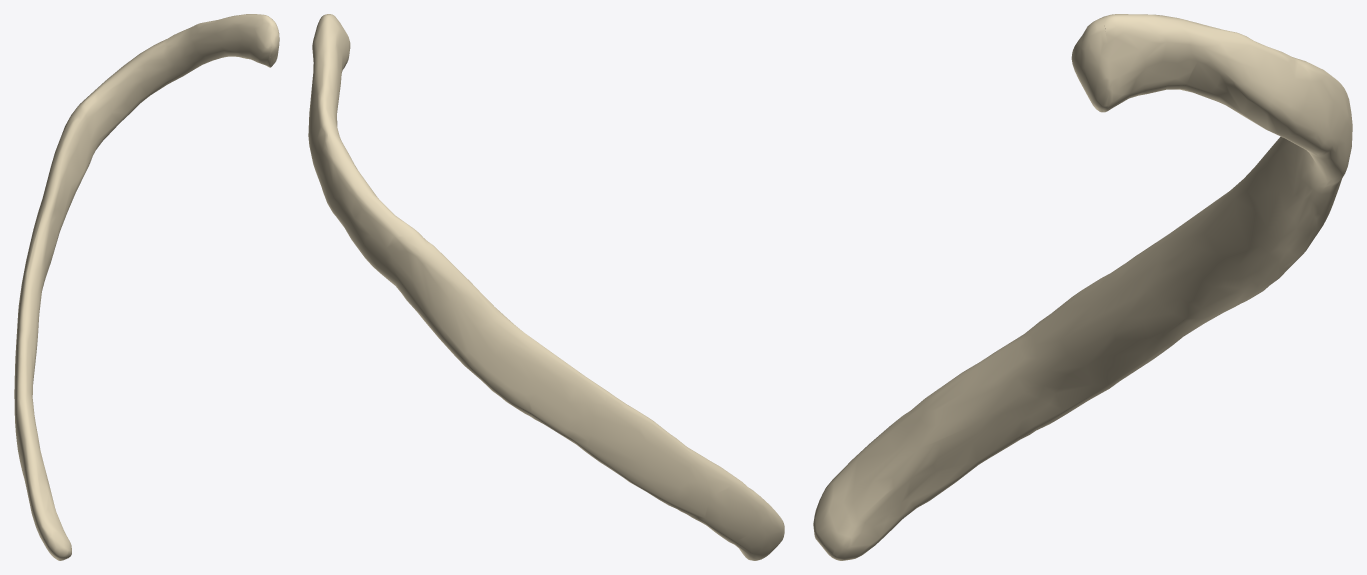
File: esqueleto-eleventh-rib-r.glb
3 renders of one model, left to right at view 1: azimuth 30°, elevation 25°; view 2: azimuth 150°, elevation 25°; view 3: azimuth 270°, elevation 25°, orthographic. The views are drawn at different scales.
Parts seen in each view (by area): view 1: Eleventh rib.r; view 2: Eleventh rib.r; view 3: Eleventh rib.r.
Part boxes in pixels (bbox=[...]): Eleventh rib.r: bbox=[14, 14, 279, 560]; Eleventh rib.r: bbox=[308, 14, 784, 560]; Eleventh rib.r: bbox=[813, 14, 1352, 560].
Bounding box in the file's own units: 0.0998 × 0.132 × 0.0812.
